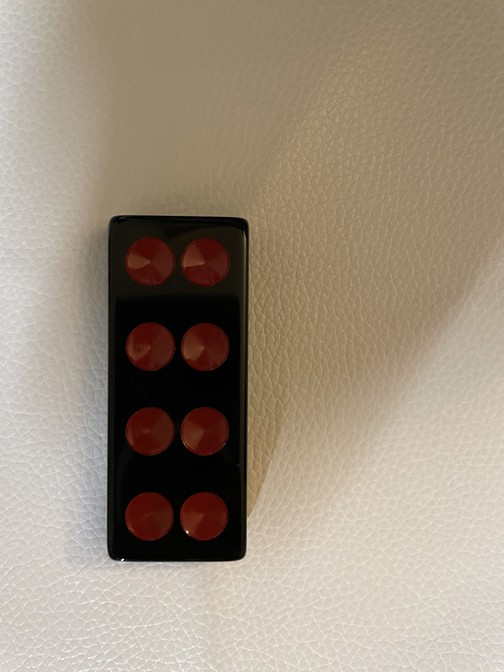man: (108, 218, 249, 564)
